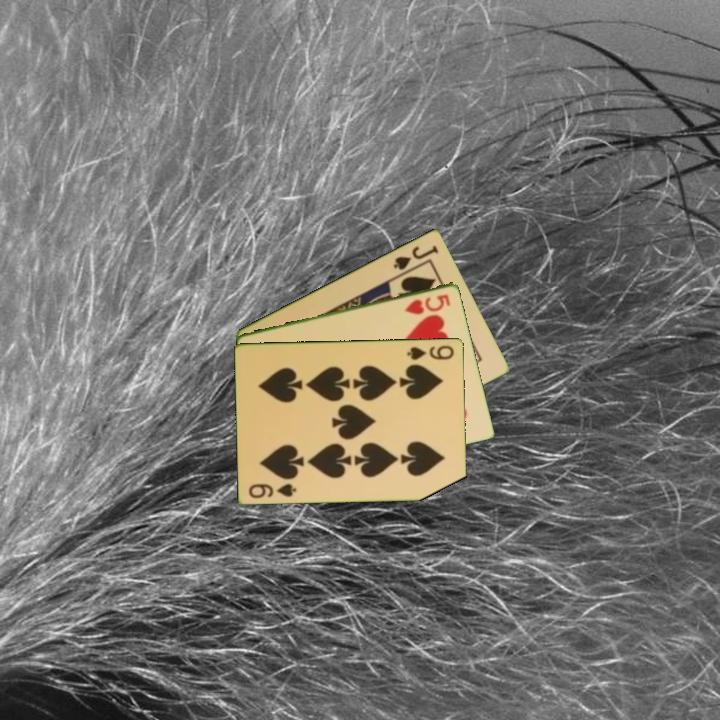5h: (401, 290, 453, 317)
9s: (245, 480, 299, 501), (403, 342, 457, 362)
Js: (390, 241, 441, 272)
